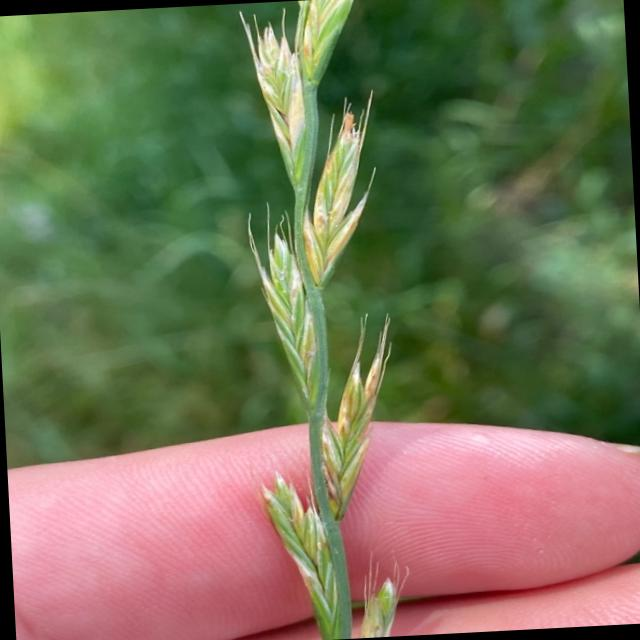Lolium: (226, 0, 414, 640)
